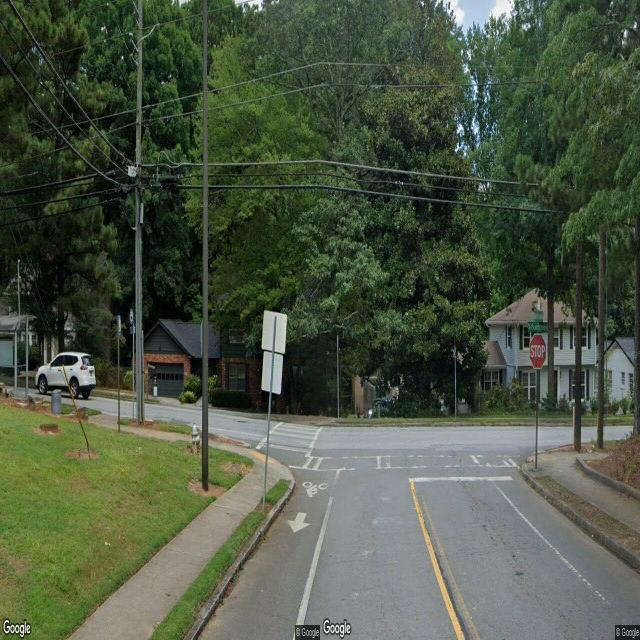shelter: (0, 314, 37, 400)
trash_can: (51, 389, 61, 414)
